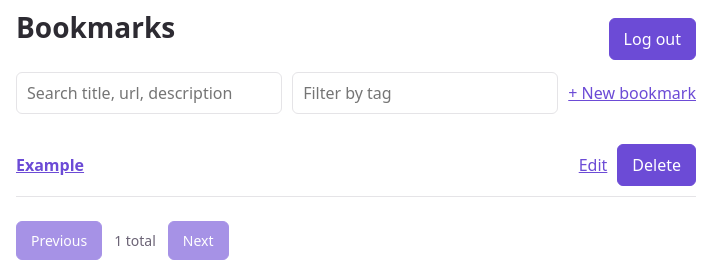
BookmarksPage › removes a bookmark from the list after deleting it
Check: the link "Example" is shown, box [16,154,84,176]
Click the button "Delete" at (657, 165), box [617,144,696,186]
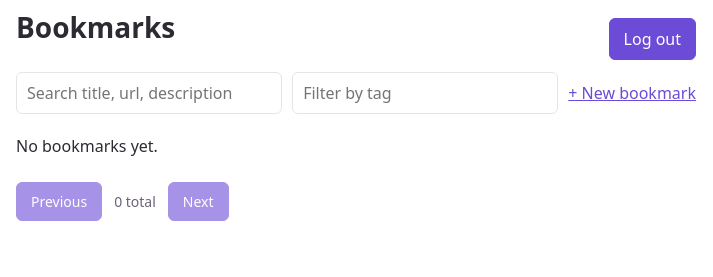
Check: the link "Example" is gone
